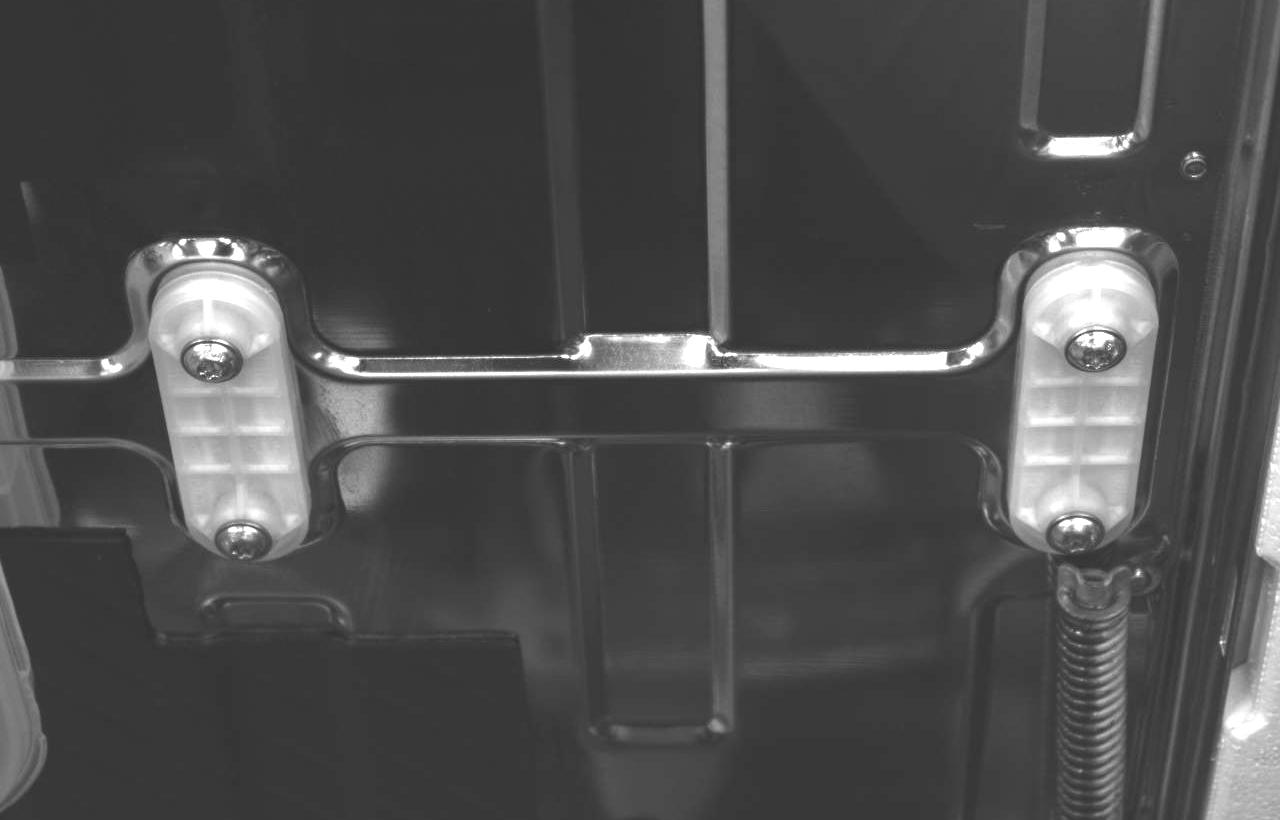vida-ok: (176, 325, 247, 392), (1063, 314, 1130, 381), (211, 509, 277, 568), (1041, 499, 1107, 558)
